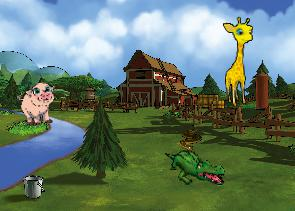crocodile: (165, 149, 225, 186)
giraffe: (222, 16, 257, 107)
pig: (16, 81, 60, 128)
